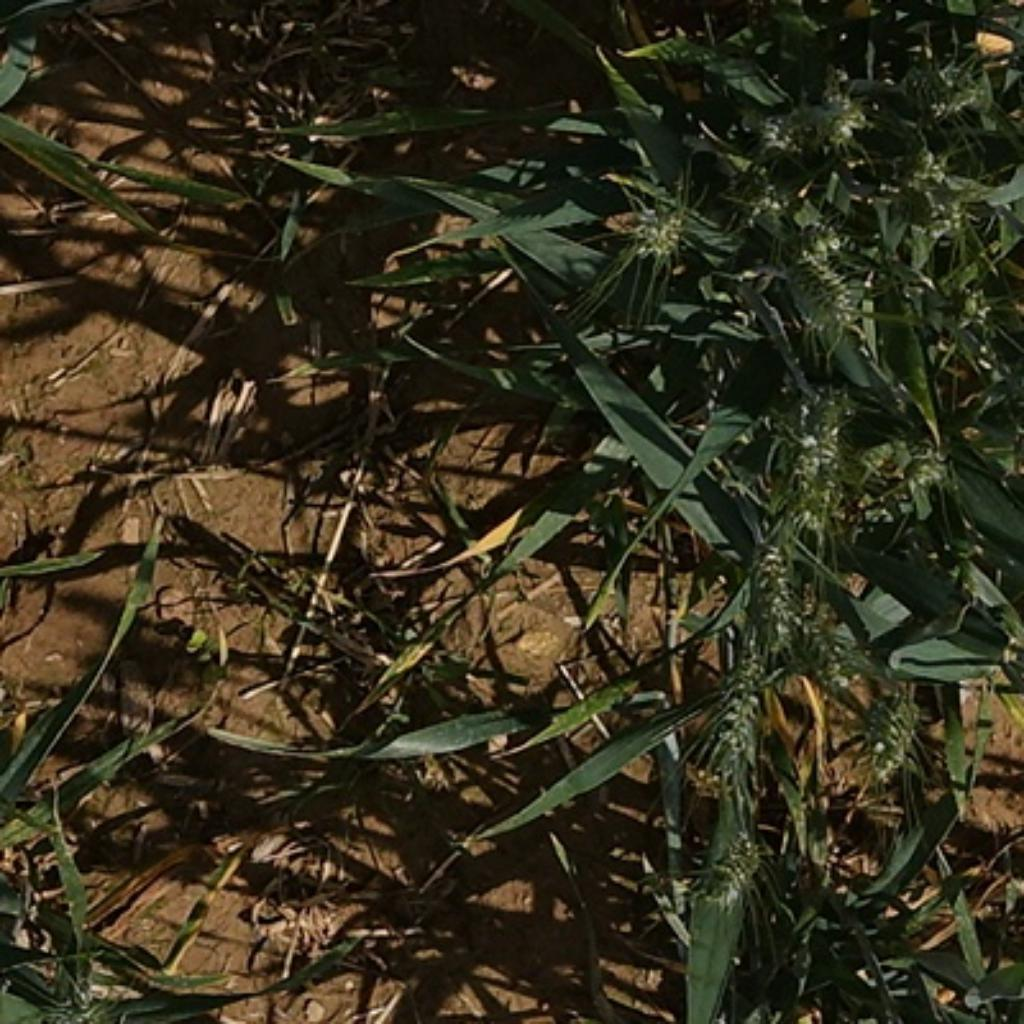0-0: (762, 371, 862, 537), (763, 591, 878, 710), (762, 217, 860, 340), (704, 619, 775, 780), (826, 427, 931, 535), (744, 81, 862, 168), (893, 148, 988, 248), (680, 806, 762, 908), (741, 519, 798, 658), (844, 678, 926, 770), (903, 267, 1006, 339), (893, 46, 983, 117), (622, 184, 698, 261), (808, 0, 888, 2)
